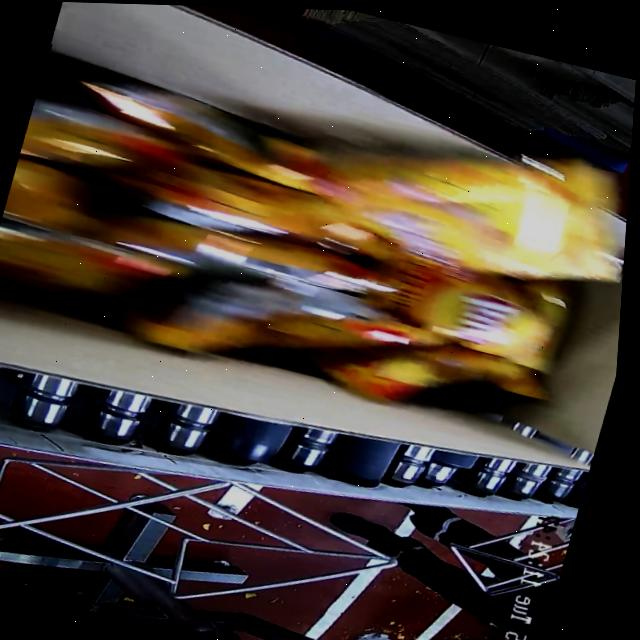FRENCH_CHEESE: (0, 38, 617, 452)
